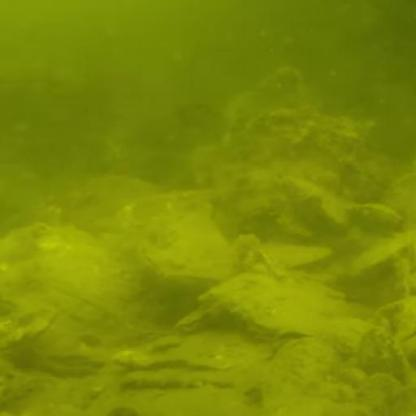Oyster-Closed: (204, 267, 352, 343), (127, 204, 237, 287)
